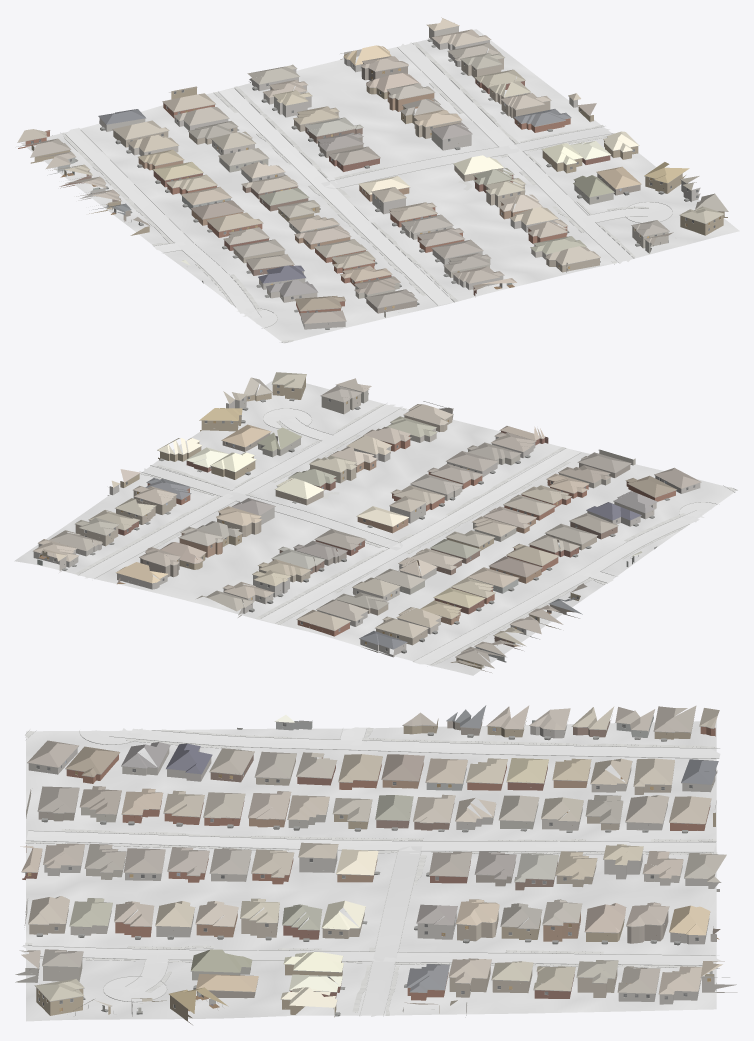
3 renders of one model, top to bottom at view 1: azimuth 30°, elevation 25°; view 2: azimuth 150°, elevation 25°; view 3: azimuth 270°, elevation 25°, orthographic. The views are drawn at different scales.
Parts seen in each view (by area): view 1: ground, roof, concrete, wall, detail, walk, wall_stone, wall_stucco, curb, glass; view 2: roof, ground, concrete, wall, detail, wall_stucco, walk, wall_stone, curb, glass; view 3: ground, roof, concrete, wall, wall_stucco, walk, detail, wall_stone, curb, glass.
Part boxes in pixels (x1,y1,x2,y2): ground: [21, 29, 739, 343]; roof: [17, 17, 728, 323]; concrete: [66, 42, 672, 327]; wall: [18, 63, 727, 316]; detail: [17, 26, 728, 329]; walk: [62, 42, 648, 342]; wall_stone: [78, 39, 700, 329]; wall_stucco: [47, 26, 668, 317]; curb: [64, 43, 672, 342]; glass: [31, 63, 715, 312]; roof: [33, 372, 700, 668]; ground: [14, 380, 737, 675]; concrete: [78, 404, 715, 664]; wall: [89, 377, 675, 672]; detail: [33, 380, 701, 666]; wall_stucco: [59, 390, 656, 662]; walk: [75, 404, 736, 665]; wall_stone: [33, 396, 700, 657]; curb: [79, 403, 737, 666]; glass: [54, 385, 695, 660]; ground: [26, 721, 716, 1021]; roof: [19, 705, 726, 1013]; concrete: [21, 727, 720, 1016]; wall: [22, 718, 715, 1024]; wall_stucco: [15, 715, 737, 997]; walk: [25, 727, 717, 1015]; detail: [21, 710, 729, 1016]; wall_stone: [28, 725, 719, 1017]; curb: [23, 728, 719, 1016]; glass: [29, 723, 715, 1014].
Size of the model in its own units: 270 by 15.84 by 263.
